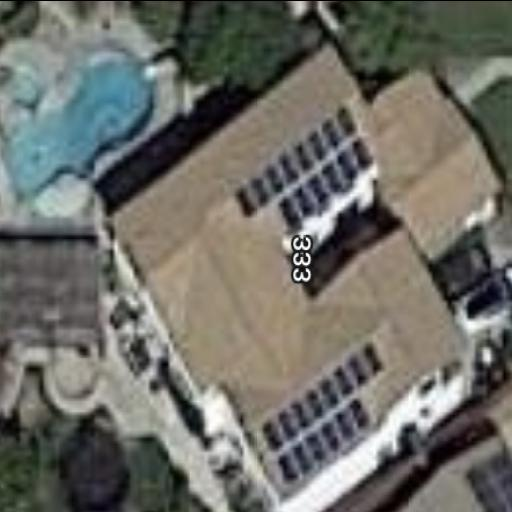Solar-Slope-Roof: (106, 44, 502, 503)
